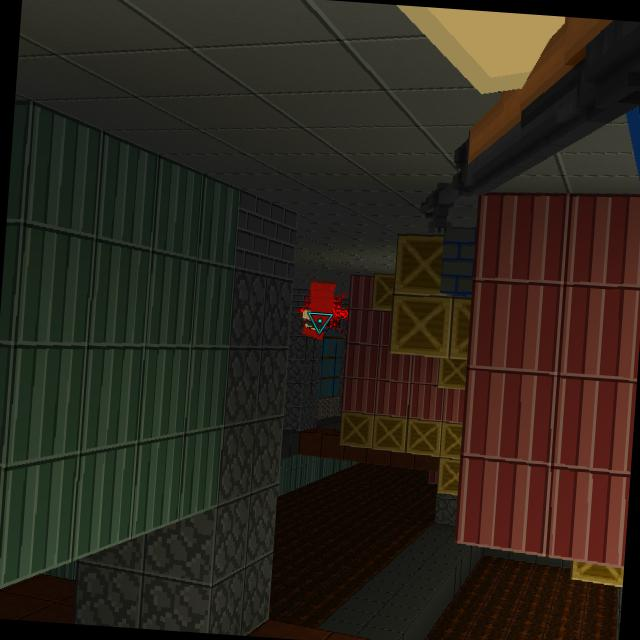enemy: (296, 275, 338, 342)
